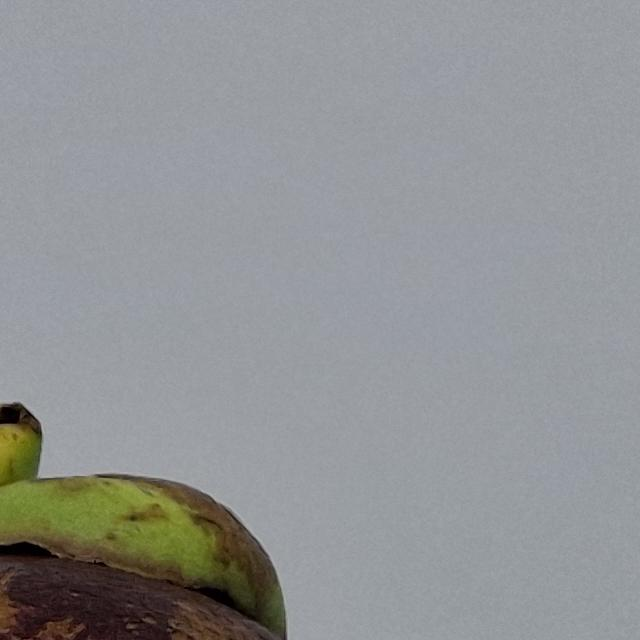mangosteen: (0, 350, 550, 640)
